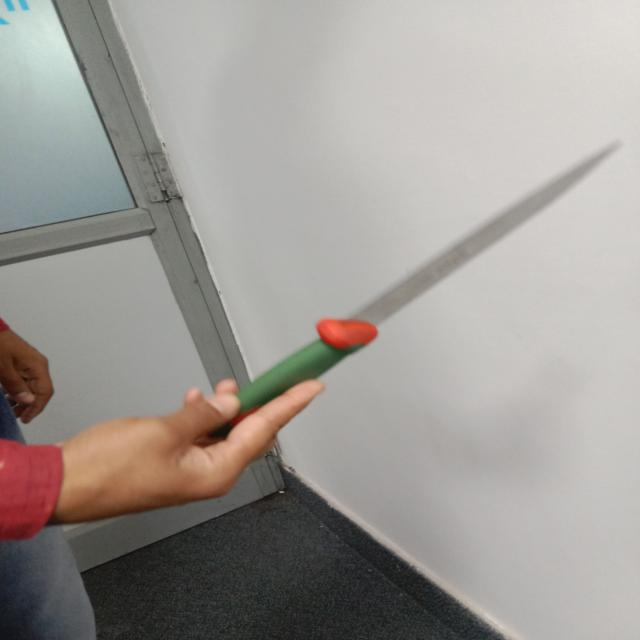Knife: (237, 144, 620, 412)
